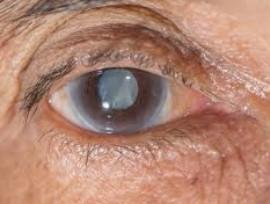eye: (71, 69, 168, 134)
